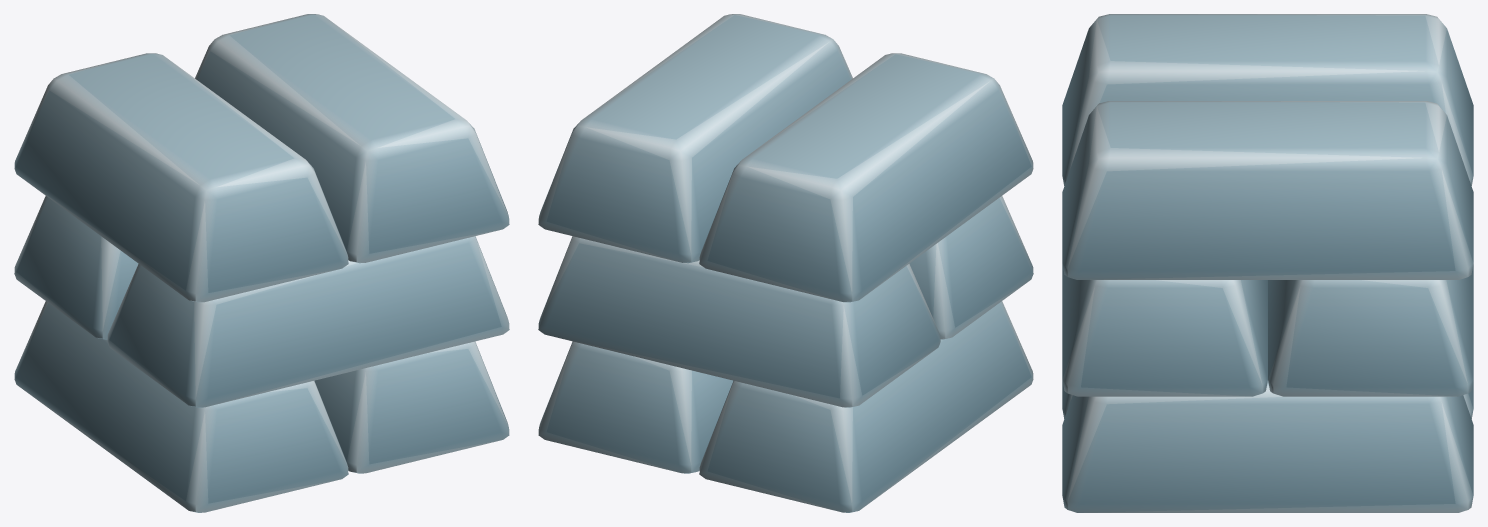
The model's file is Silver_Bars_Stack_Small.glb.
The picture shows the model from 3 angles, left to right: view 1: azimuth 30°, elevation 25°; view 2: azimuth 150°, elevation 25°; view 3: azimuth 270°, elevation 25°; orthographic projection. The views are drawn at different scales.
Visible parts, largest first — view 1: Silver_Bars_Stack_Small; view 2: Silver_Bars_Stack_Small; view 3: Silver_Bars_Stack_Small.
Part boxes in pixels (x1,y1,x2,y2): Silver_Bars_Stack_Small: (14, 14, 509, 512); Silver_Bars_Stack_Small: (538, 14, 1033, 512); Silver_Bars_Stack_Small: (1062, 14, 1473, 512).
Bounding box in the file's own units: 0.8 × 0.75 × 0.8.
1 material, 1 textured.
